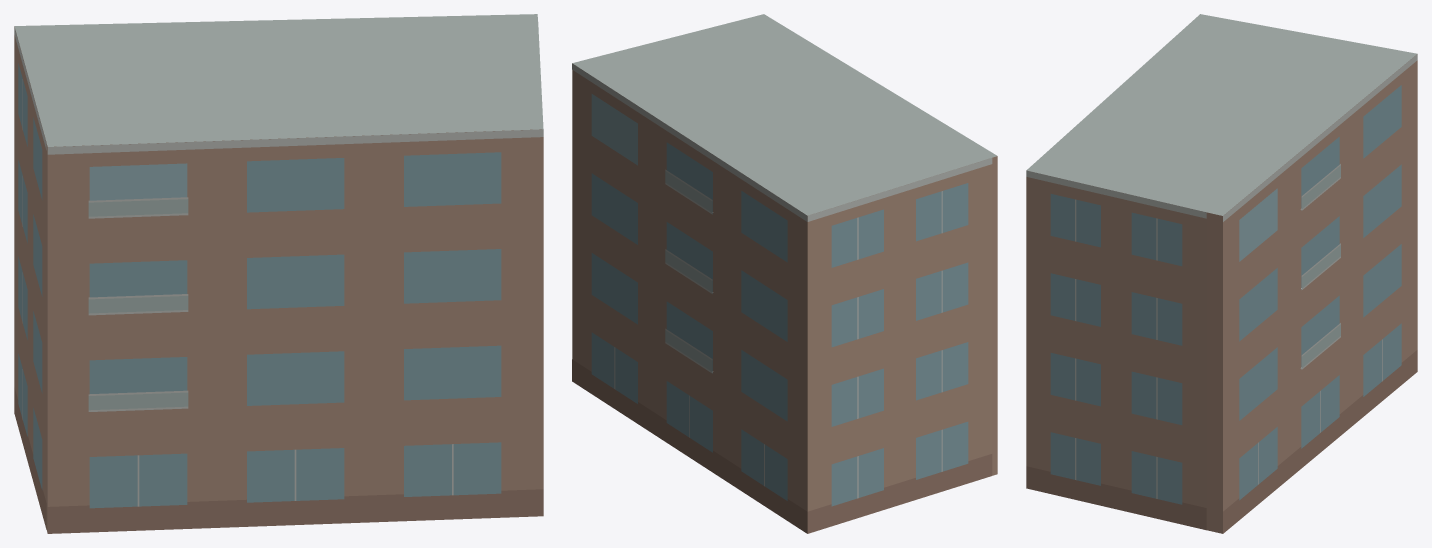
The model's file is survey-upis-32480887.glb.
The picture shows the model from 3 angles, left to right: view 1: azimuth 30°, elevation 25°; view 2: azimuth 150°, elevation 25°; view 3: azimuth 270°, elevation 25°; orthographic projection. The views are drawn at different scales.
Parts seen in each view (by area): view 1: survey-upis-32480887.tmp; view 2: survey-upis-32480887.tmp; view 3: survey-upis-32480887.tmp.
Boxes of the visible parts, x1,y1,x2,y2 form: survey-upis-32480887.tmp: (14, 14, 543, 533); survey-upis-32480887.tmp: (572, 14, 997, 533); survey-upis-32480887.tmp: (1026, 14, 1417, 533).
Size of the model in its own units: 16.63 by 12.2 by 13.62.
